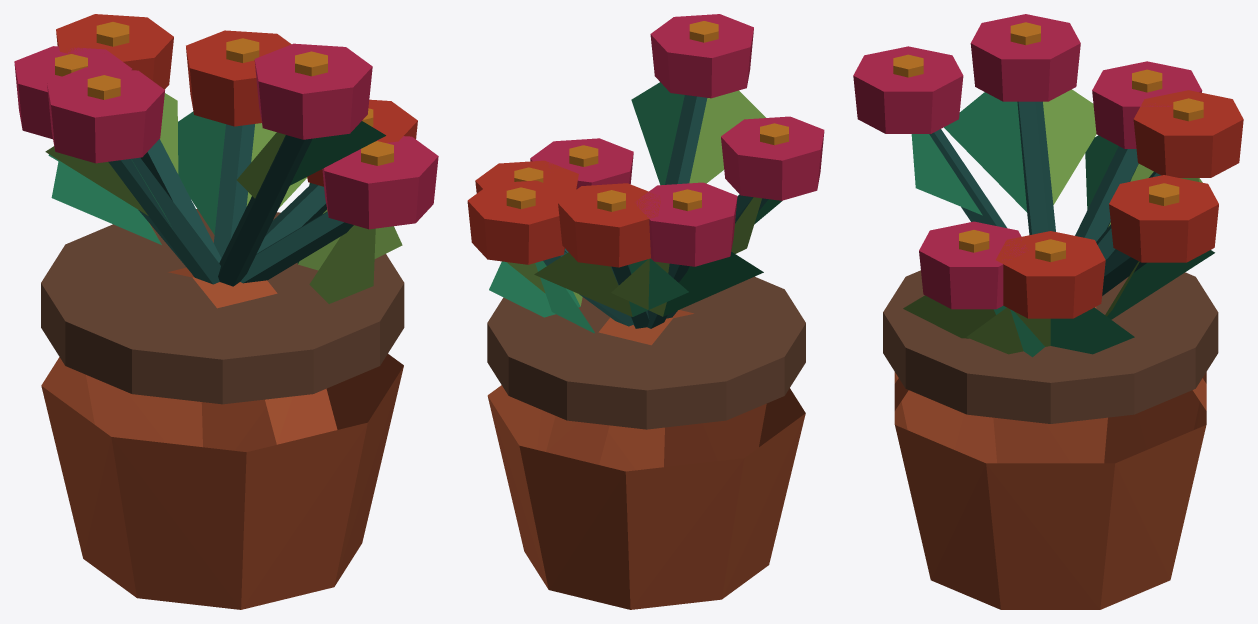
The model's file is flower-pot-clay.glb.
3 renders of one model, left to right at view 1: azimuth 30°, elevation 25°; view 2: azimuth 150°, elevation 25°; view 3: azimuth 270°, elevation 25°, orthographic. The views are drawn at different scales.
Visible parts, largest first — view 1: flower-pot-clay; view 2: flower-pot-clay; view 3: flower-pot-clay.
Part boxes in pixels (<box>): flower-pot-clay: <box>14,14,438,609</box>; flower-pot-clay: <box>467,14,824,609</box>; flower-pot-clay: <box>853,14,1243,609</box>.
Bounding box in the file's own units: 0.602 × 0.854 × 0.6012.
